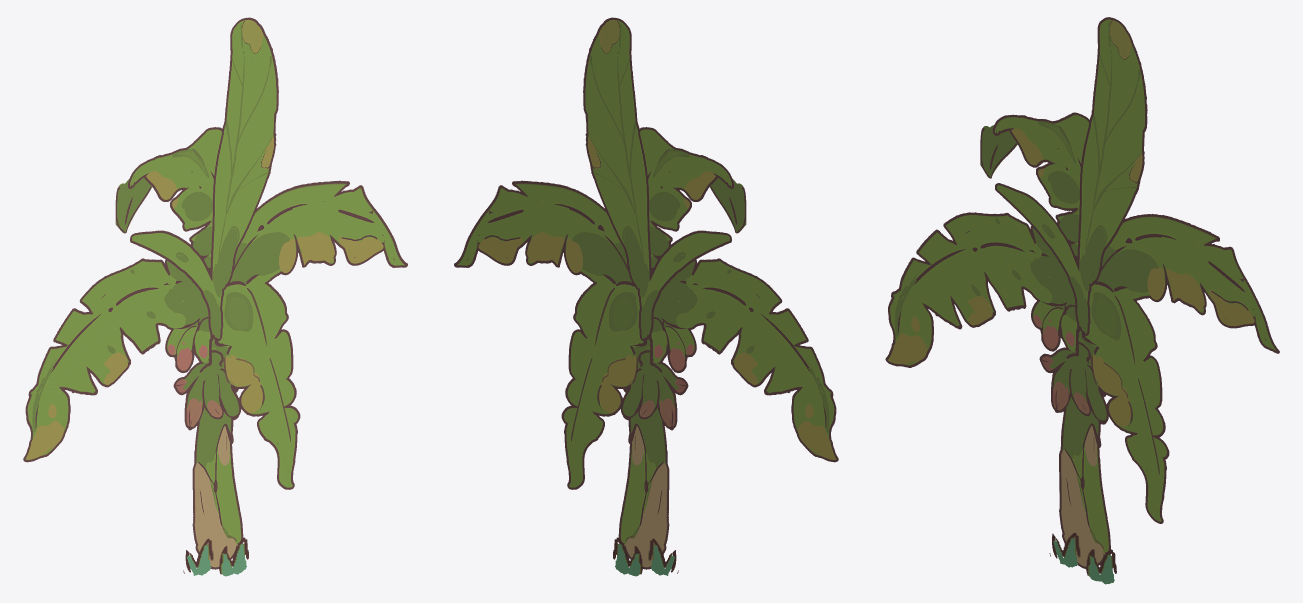
The model's file is Mesh_Home_RF_Plantain.fbx.
3 renders of one model, left to right at view 1: azimuth 30°, elevation 25°; view 2: azimuth 150°, elevation 25°; view 3: azimuth 330°, elevation 25°, orthographic. The views are drawn at different scales.
Parts seen in each view (by area): view 1: Mesh_Home_RF_Plantain; view 2: Mesh_Home_RF_Plantain; view 3: Mesh_Home_RF_Plantain.
Boxes of the visible parts, <box> form: Mesh_Home_RF_Plantain: <box>23,17,407,576</box>; Mesh_Home_RF_Plantain: <box>454,17,838,576</box>; Mesh_Home_RF_Plantain: <box>885,17,1279,584</box>.
Bounding box in the file's own units: 75.9 × 100 × 0.
